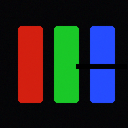3 line_h: (76, 64, 126, 68)
